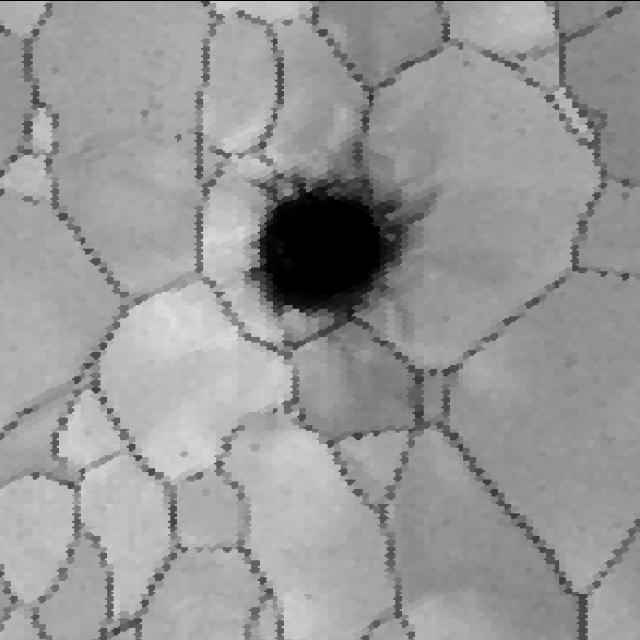good_void: (237, 155, 444, 346), (171, 129, 185, 144), (176, 447, 194, 456)
